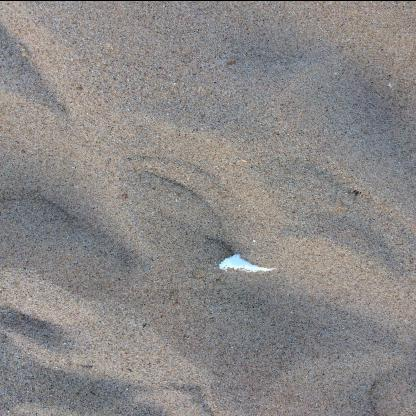kopuk: (219, 253, 276, 271)
